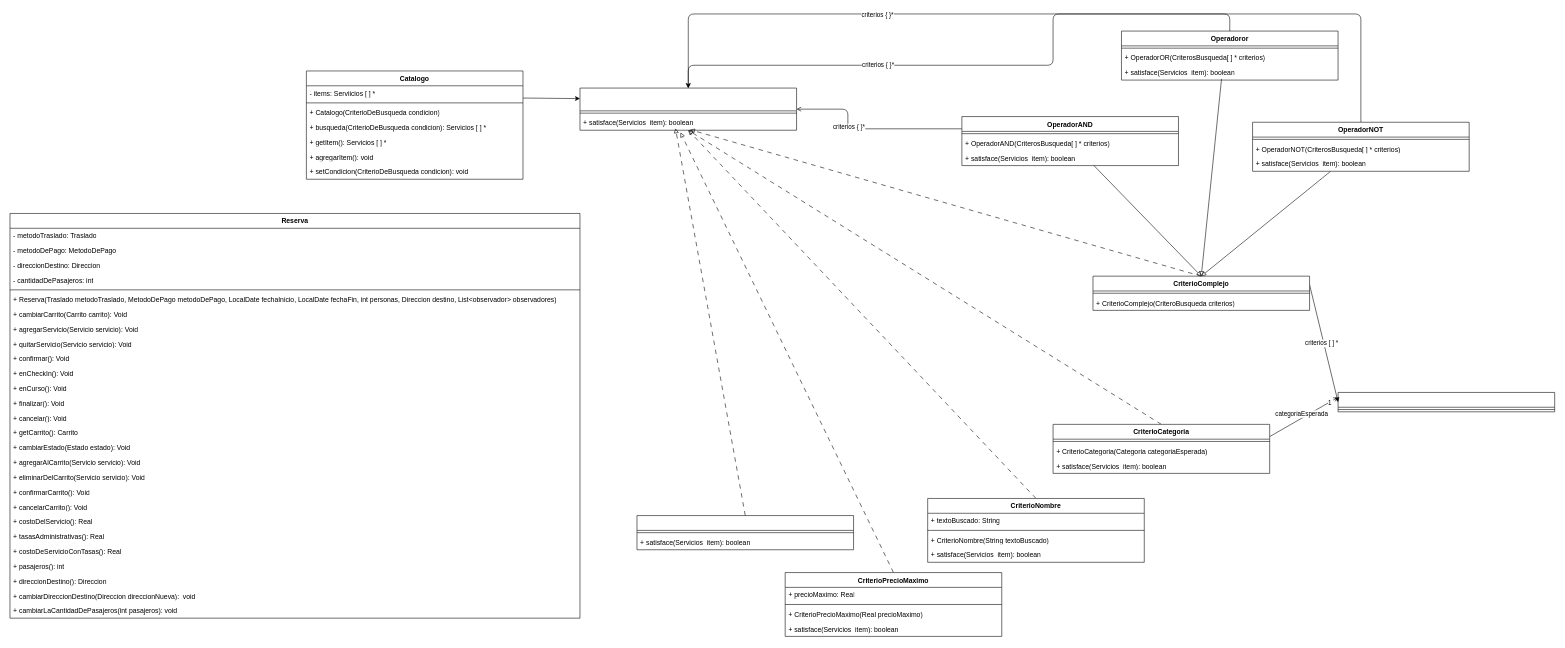
Some shapes in this 1565 by 648 pixel diagram are drawn without their labels. Each missing label, with the box of its shape:
<<Interface>> CriterioDeBusqueda: (579, 87, 797, 130)
Categoria: (1338, 392, 1555, 412)
CriterioDisponibilidad: (636, 515, 854, 550)
